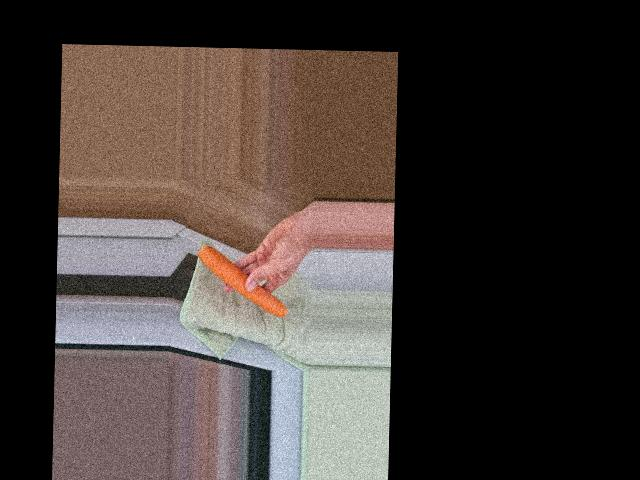carrot: (196, 243, 289, 318)
